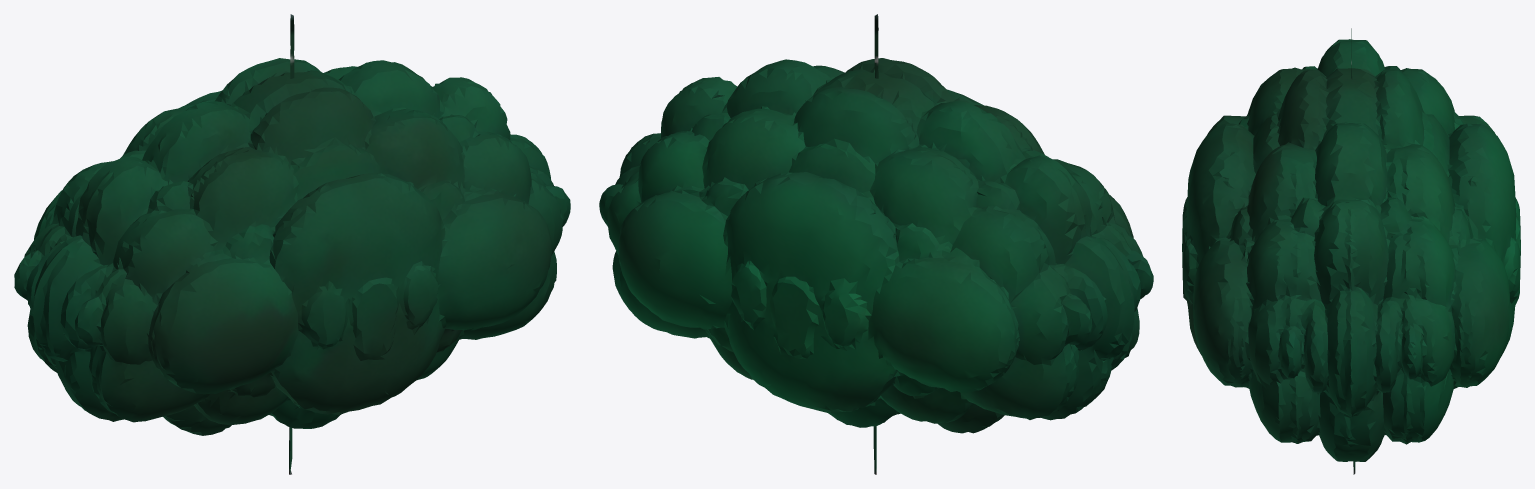
Rendered from rodin_canopymass_raw.glb.
The picture shows the model from 3 angles, left to right: view 1: azimuth 30°, elevation 25°; view 2: azimuth 150°, elevation 25°; view 3: azimuth 270°, elevation 25°; orthographic projection.
Visible parts, largest first — view 1: model; view 2: model; view 3: model.
Boxes of the visible parts, box(x1,y1,x2,y2) form: model: box(14, 14, 570, 474); model: box(599, 14, 1153, 474); model: box(1182, 28, 1520, 474).
Bounding box in the file's own units: 1.9 × 1.61 × 1.08.
1 material, 1 textured.
